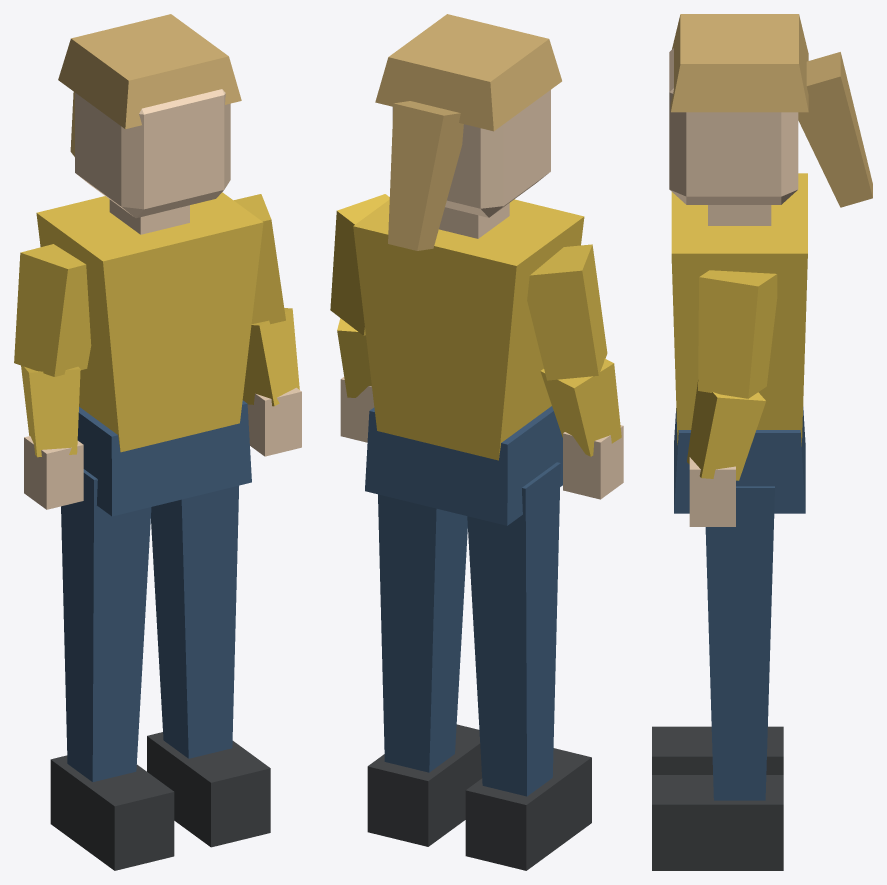
File: Citizen_Female_02_Yellow_Top.fbx
3 renders of one model, left to right at view 1: azimuth 30°, elevation 25°; view 2: azimuth 150°, elevation 25°; view 3: azimuth 270°, elevation 25°, orthographic. The views are drawn at different scales.
Visible parts, largest first — view 1: Citizen_Female_02_Yellow_Top_Mesh; view 2: Citizen_Female_02_Yellow_Top_Mesh; view 3: Citizen_Female_02_Yellow_Top_Mesh.
Boxes of the visible parts, box(x1,y1,x2,y2) form: Citizen_Female_02_Yellow_Top_Mesh: box(14, 14, 301, 870); Citizen_Female_02_Yellow_Top_Mesh: box(330, 14, 623, 870); Citizen_Female_02_Yellow_Top_Mesh: box(652, 14, 872, 870).
Size of the model in its own units: 61.38 by 172 by 43.44.
